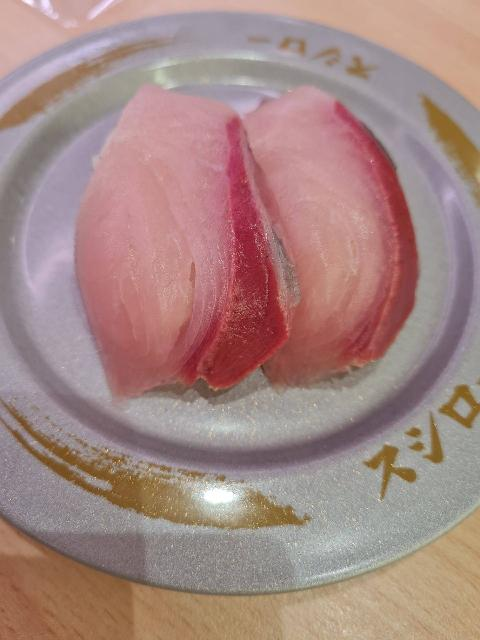janwhite: (7, 2, 480, 593)
